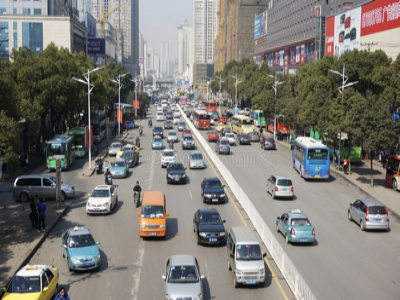licence: (209, 237, 218, 243)
